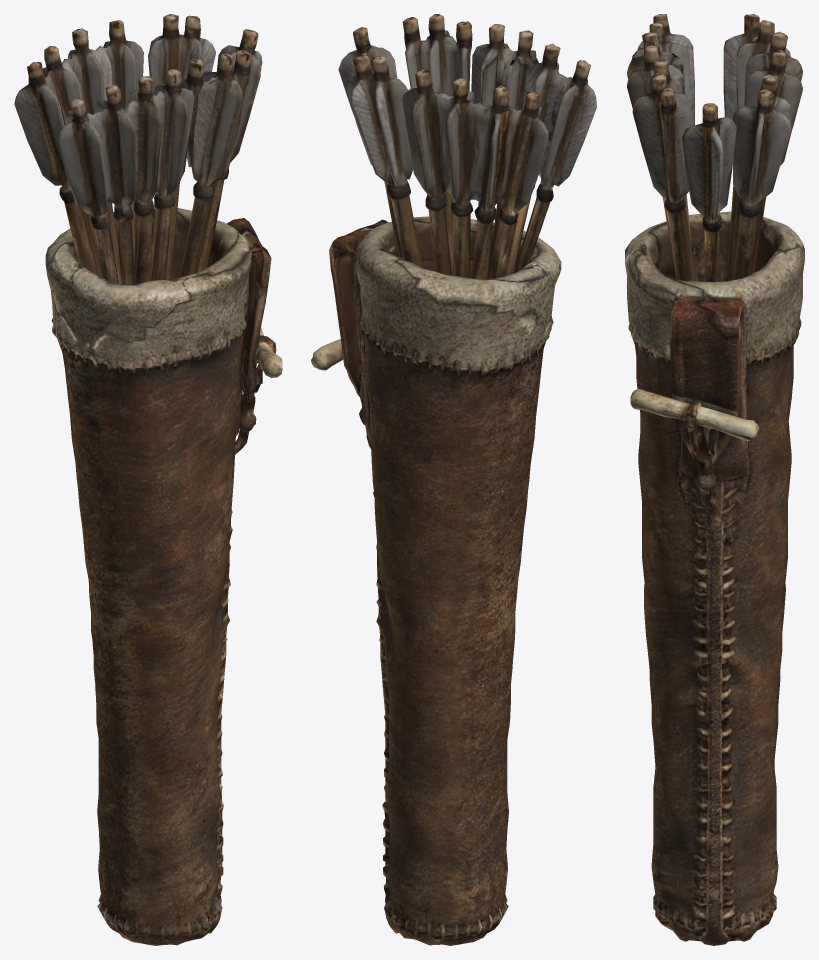
File: quiver.glb
3 views of the same model, side by side, from view 1: azimuth 30°, elevation 25°; view 2: azimuth 150°, elevation 25°; view 3: azimuth 270°, elevation 25° (orthographic). The views are drawn at different scales.
Visible parts, largest first — view 1: quiver; view 2: quiver; view 3: quiver.
Part boxes in pixels (x1=…): quiver: x1=14, y1=14, x2=282, y2=945; quiver: x1=311, y1=14, x2=596, y2=945; quiver: x1=625, y1=14, x2=804, y2=945.
Size of the model in its own units: 0.193 by 0.68 by 0.1264.
1 material, 1 textured.
